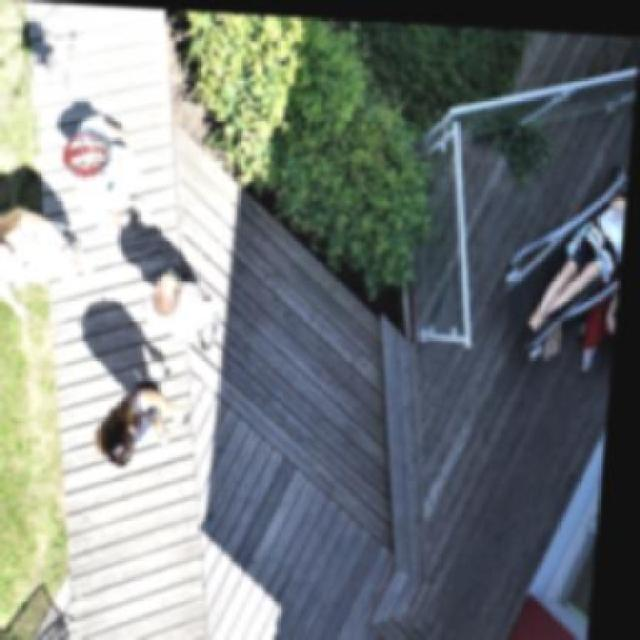Person: (528, 178, 629, 327), (48, 100, 166, 225), (0, 205, 114, 324), (100, 372, 203, 468), (136, 260, 241, 351), (570, 260, 622, 360)
